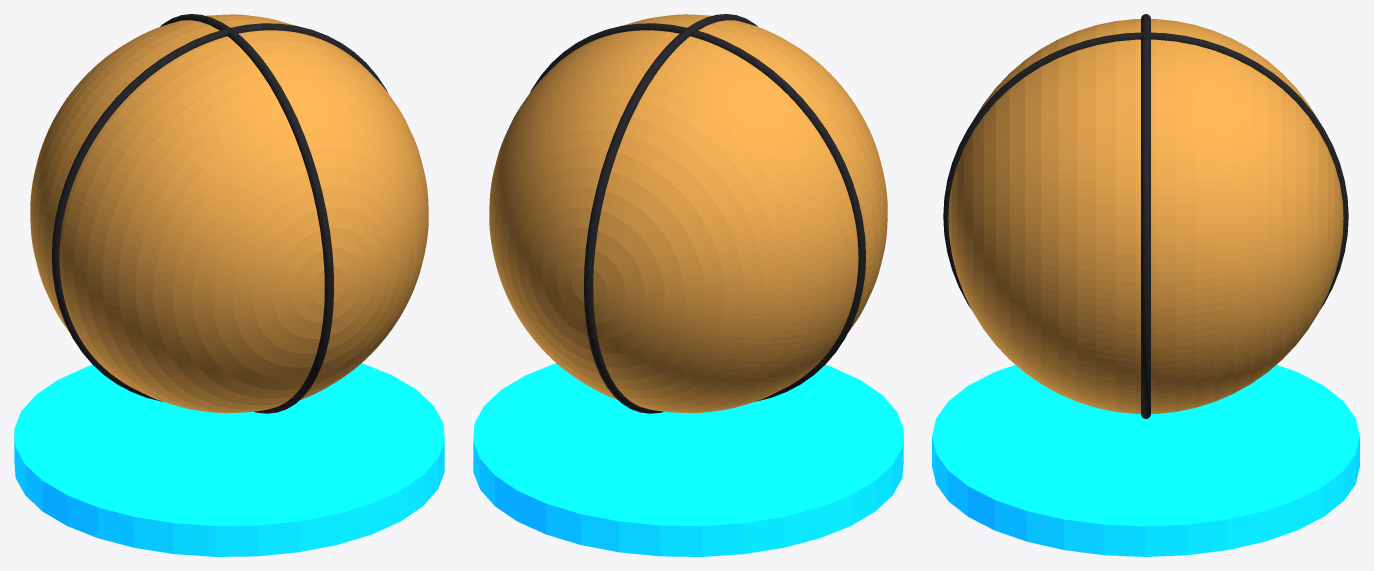
The model's file is sports_basketball.glb.
3 views of the same model, side by side, from view 1: azimuth 30°, elevation 25°; view 2: azimuth 150°, elevation 25°; view 3: azimuth 270°, elevation 25° (orthographic).
Parts seen in each view (by area): view 1: 04_02_Popular_Sports_Basketball_part_01, 04_02_Popular_Sports_Basketball_ROOT_base, 04_02_Popular_Sports_Basketball_part_03, 04_02_Popular_Sports_Basketball_part_02; view 2: 04_02_Popular_Sports_Basketball_part_01, 04_02_Popular_Sports_Basketball_ROOT_base, 04_02_Popular_Sports_Basketball_part_03, 04_02_Popular_Sports_Basketball_part_02; view 3: 04_02_Popular_Sports_Basketball_part_01, 04_02_Popular_Sports_Basketball_ROOT_base, 04_02_Popular_Sports_Basketball_part_02, 04_02_Popular_Sports_Basketball_part_03.
Part boxes in pixels (x1=…): 04_02_Popular_Sports_Basketball_part_01: x1=30, y1=14, x2=428, y2=413; 04_02_Popular_Sports_Basketball_ROOT_base: x1=14, y1=363, x2=444, y2=556; 04_02_Popular_Sports_Basketball_part_03: x1=52, y1=23, x2=387, y2=401; 04_02_Popular_Sports_Basketball_part_02: x1=160, y1=14, x2=333, y2=413; 04_02_Popular_Sports_Basketball_part_01: x1=489, y1=14, x2=887, y2=413; 04_02_Popular_Sports_Basketball_ROOT_base: x1=473, y1=363, x2=903, y2=556; 04_02_Popular_Sports_Basketball_part_03: x1=530, y1=23, x2=865, y2=401; 04_02_Popular_Sports_Basketball_part_02: x1=584, y1=14, x2=757, y2=413; 04_02_Popular_Sports_Basketball_part_01: x1=948, y1=19, x2=1343, y2=413; 04_02_Popular_Sports_Basketball_ROOT_base: x1=932, y1=365, x2=1359, y2=556; 04_02_Popular_Sports_Basketball_part_02: x1=943, y1=32, x2=1348, y2=309; 04_02_Popular_Sports_Basketball_part_03: x1=1141, y1=14, x2=1150, y2=418.
Bounding box in the file's own units: 0.76 × 0.85 × 0.76.
